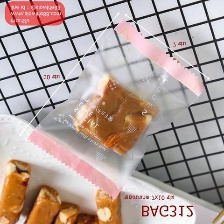snack: (20, 12, 209, 205)
